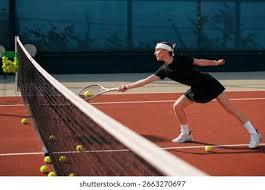ball_tennis: (83, 89, 93, 99), (205, 144, 214, 154), (76, 142, 84, 153), (44, 155, 53, 164), (40, 165, 49, 174), (48, 133, 56, 143), (59, 154, 67, 164), (21, 117, 29, 125), (48, 171, 57, 177), (68, 172, 76, 176)
